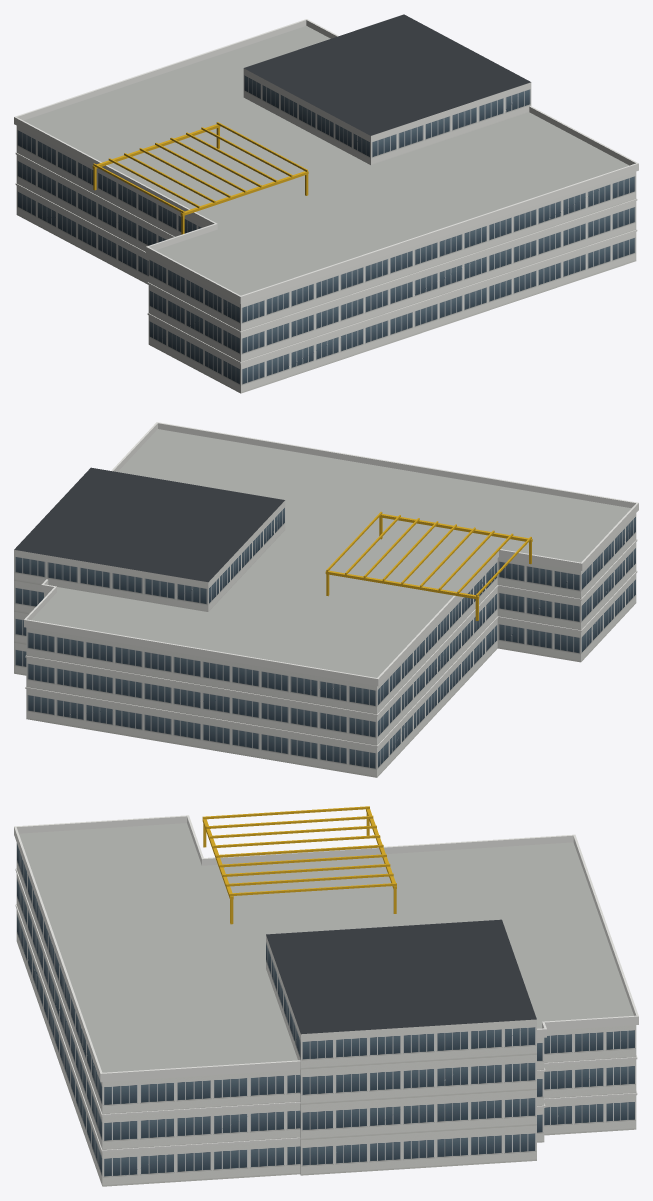
The model's file is huodongzhongxin.glb.
3 views of the same model, one above another, from view 1: azimuth 30°, elevation 25°; view 2: azimuth 150°, elevation 25°; view 3: azimuth 270°, elevation 25° (orthographic). The views are drawn at different scales.
Visible parts, largest first — view 1: 大学生活动中心; view 2: 大学生活动中心; view 3: 大学生活动中心.
Boxes of the visible parts, box(x1,y1,x2,y2) form: 大学生活动中心: box(14, 14, 638, 393); 大学生活动中心: box(14, 422, 638, 777); 大学生活动中心: box(14, 806, 638, 1186).
Size of the model in its own units: 66.66 by 17 by 68.09.
Materials: 5 (1 with a texture image).
